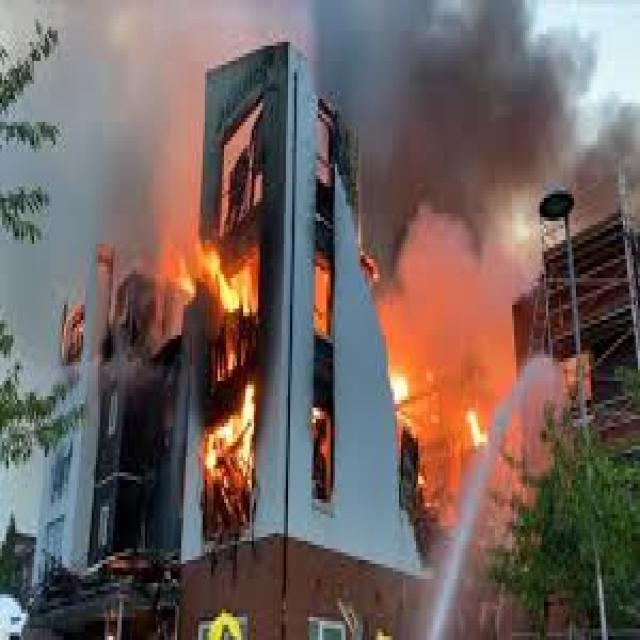Fire: (142, 194, 294, 550), (306, 250, 489, 517)
Smoke: (463, 0, 640, 244), (299, 0, 466, 247)
